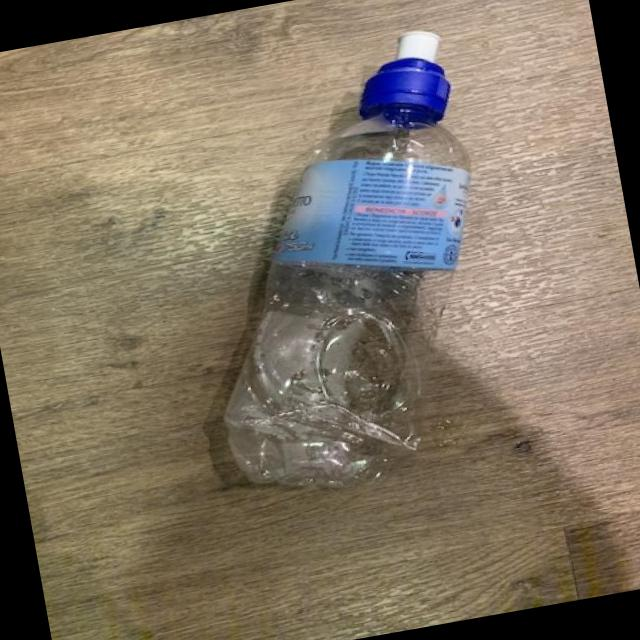plastic_bottle: (163, 26, 522, 510)
